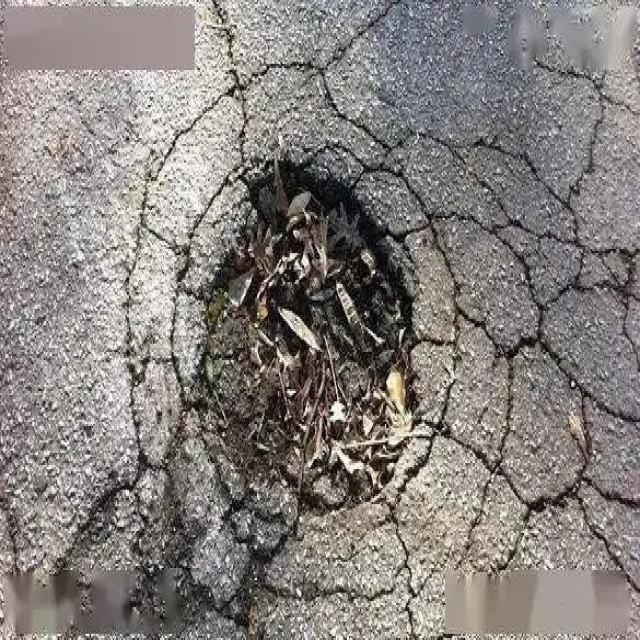Pothole: (205, 160, 432, 509)
